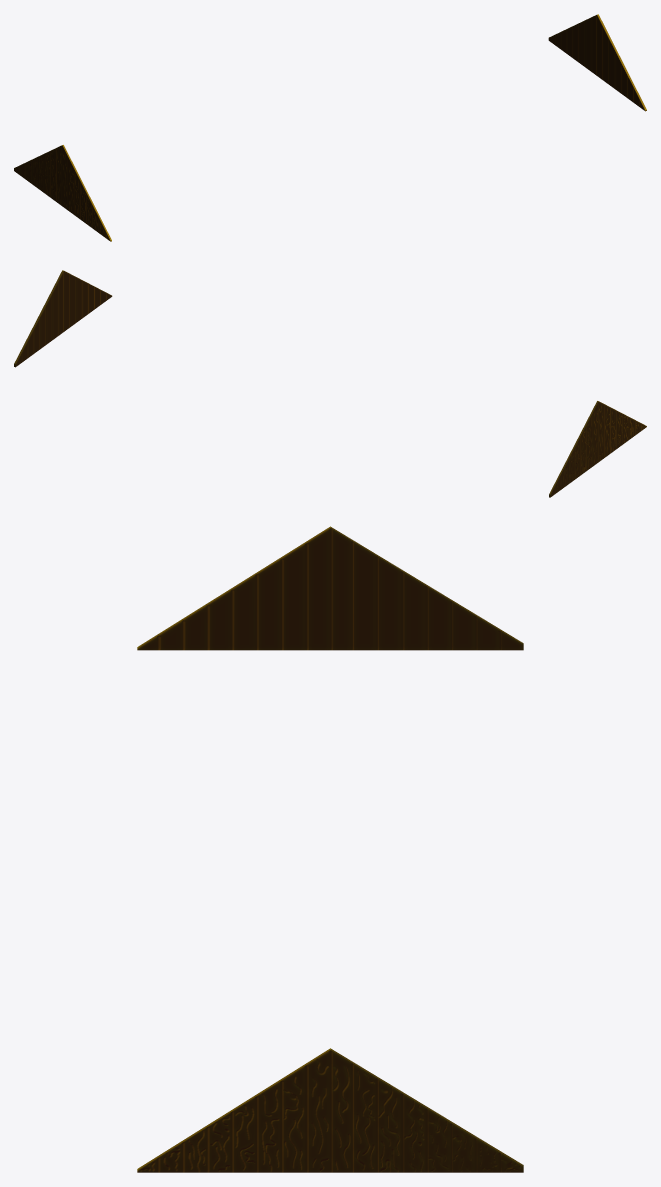
The model's file is RoofSidesTextureTEst.fbx.
The picture shows the model from 3 angles, top to bottom: view 1: azimuth 30°, elevation 25°; view 2: azimuth 150°, elevation 25°; view 3: azimuth 270°, elevation 25°; orthographic projection. The views are drawn at different scales.
Visible parts, largest first — view 1: Roof Sides_LOW; view 2: Roof Sides_LOW; view 3: Roof Sides_LOW.
Part boxes in pixels (left/top/right/bottom): Roof Sides_LOW: left=14, top=14, right=646, bottom=241; Roof Sides_LOW: left=14, top=270, right=646, bottom=497; Roof Sides_LOW: left=137, top=526, right=523, bottom=1172.
Size of the model in its own units: 2000 by 218 by 624.
1 material, 1 textured.
